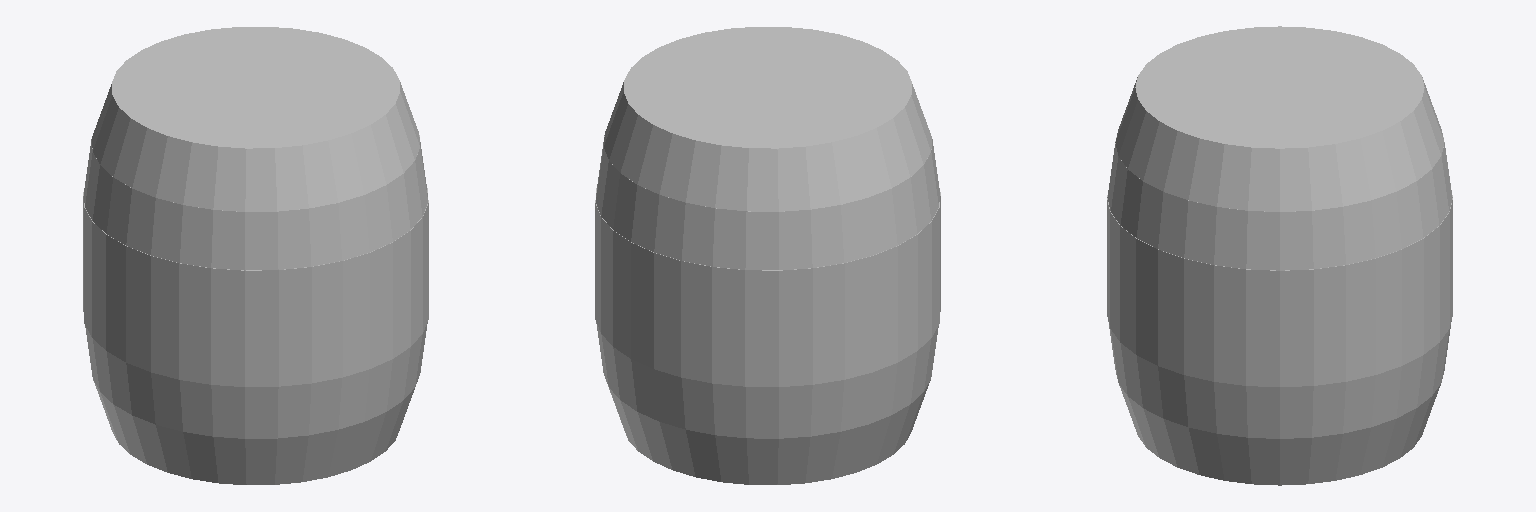
File: bala.obj
3 renders of one model, left to right at view 1: azimuth 30°, elevation 25°; view 2: azimuth 150°, elevation 25°; view 3: azimuth 270°, elevation 25°, orthographic.
Parts seen in each view (by area): view 1: Cylinder.001_Cylinder.003; view 2: Cylinder.001_Cylinder.003; view 3: Cylinder.001_Cylinder.003.
Boxes of the visible parts, x1,y1,x2,y2 form: Cylinder.001_Cylinder.003: [83, 27, 428, 484]; Cylinder.001_Cylinder.003: [595, 27, 940, 484]; Cylinder.001_Cylinder.003: [1107, 26, 1452, 485].
Size of the model in its own units: 2.39 by 2.57 by 2.39.